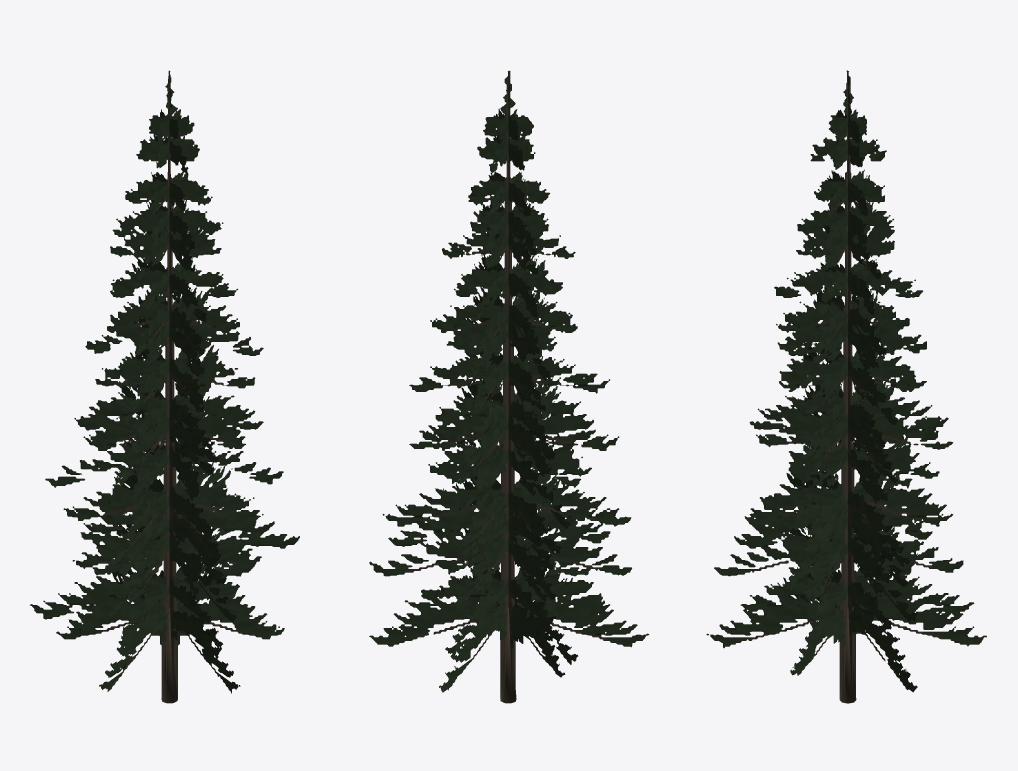
File: forest-fir_far.glb
The picture shows the model from 3 angles, left to right: view 1: azimuth 30°, elevation 25°; view 2: azimuth 150°, elevation 25°; view 3: azimuth 270°, elevation 25°; orthographic projection.
Parts seen in each view (by area): view 1: forest-fir-needles, forest-bark; view 2: forest-fir-needles, forest-bark; view 3: forest-fir-needles, forest-bark.
Part boxes in pixels (x1,y1,x2,y2): forest-fir-needles: (30,70,299,699); forest-bark: (161,608,177,703); forest-fir-needles: (369,70,649,698); forest-bark: (500,608,516,703); forest-fir-needles: (706,70,986,702); forest-bark: (839,608,856,703).
Bounding box in the file's own units: 5.82 × 15 × 6.72.
2 materials, 2 textured.
